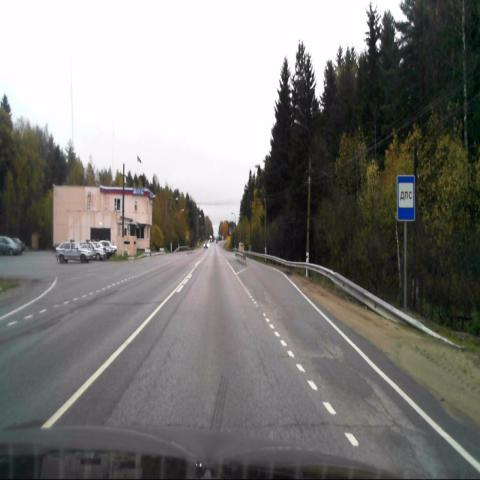7_12: (398, 177, 415, 220)
